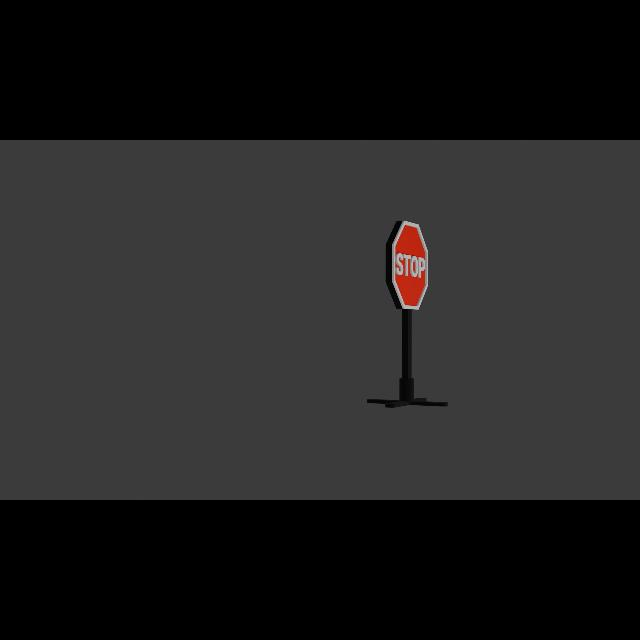sign_stop: (386, 221, 430, 311)
